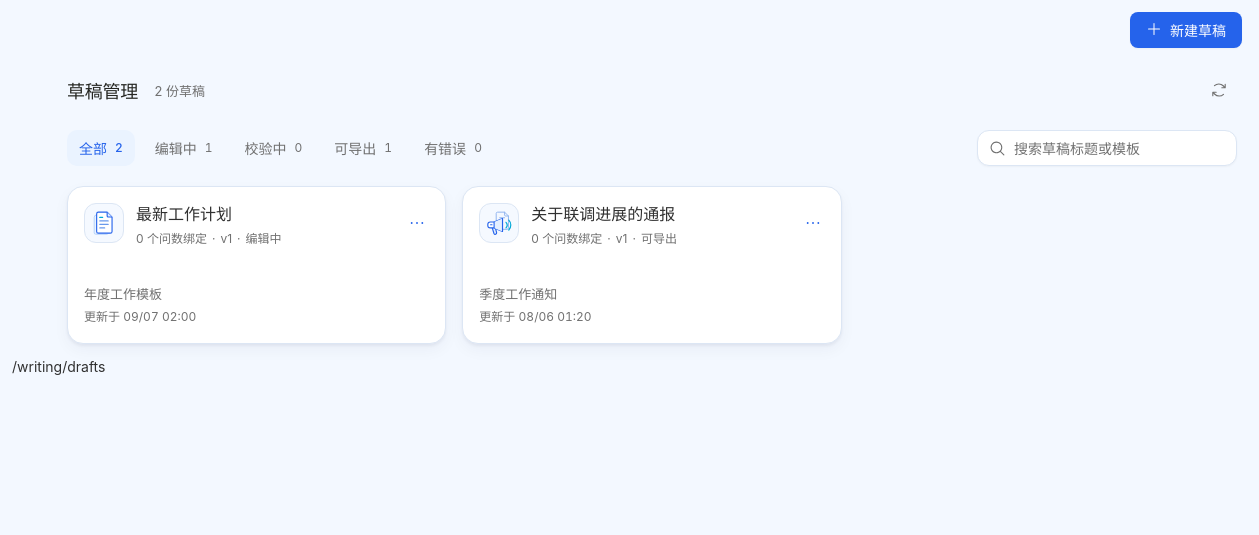
DraftLibraryView › orders drafts by actual update time, searches title or template, and opens editing
Expected: the list item "最新工作计划 0 个问数绑定 · v1 · 编辑中 年度工作模板 更新于 09/07 02:00" is shown, [67, 186, 446, 344]
Click the button "编辑中 1" at (184, 148), box [143, 130, 225, 166]
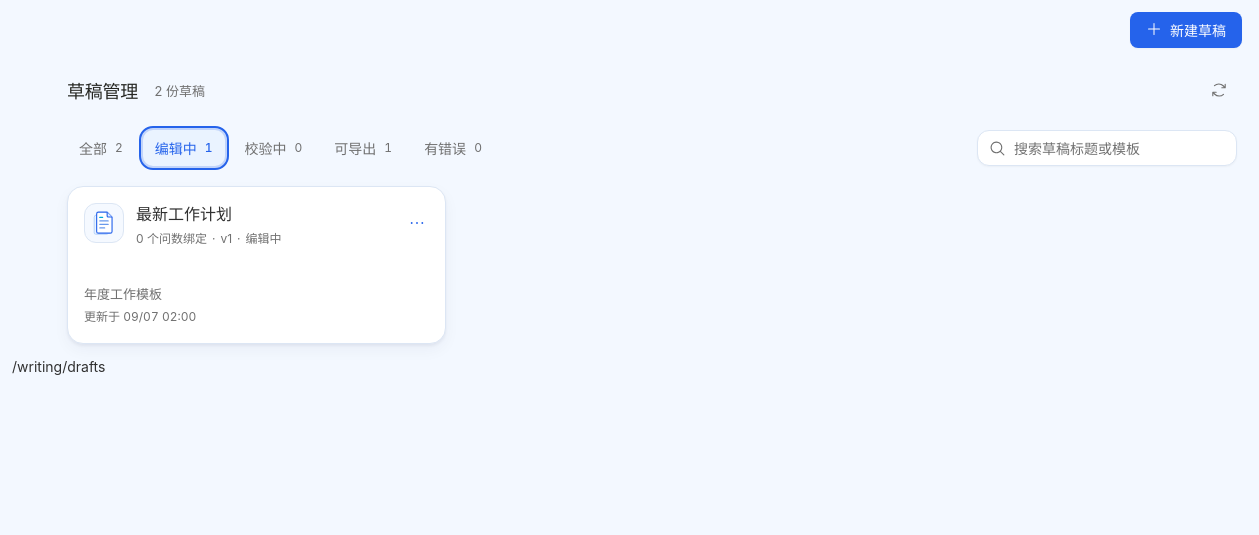
Expected: the number of list items is 1, [67, 186, 446, 344]
Type "missing" into the field labelled "搜索草稿标题" at (1112, 148), box [1014, 138, 1209, 158]
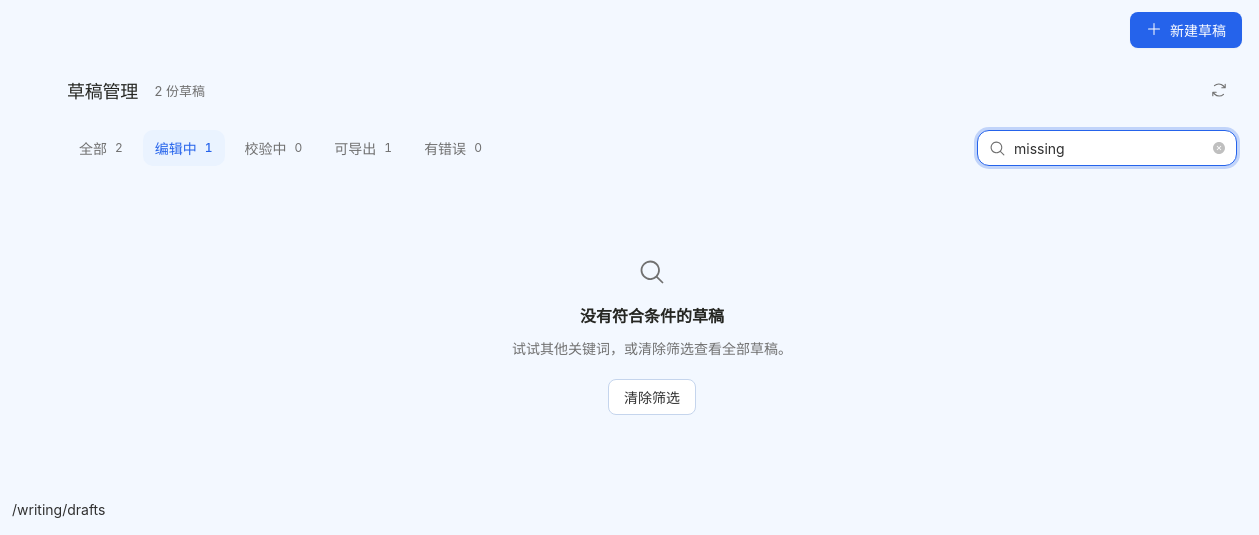
Expected: the heading "没有符合条件的草稿" is shown, [580, 304, 724, 328]
Click the button "清除筛选" at (652, 397), box [608, 379, 696, 415]
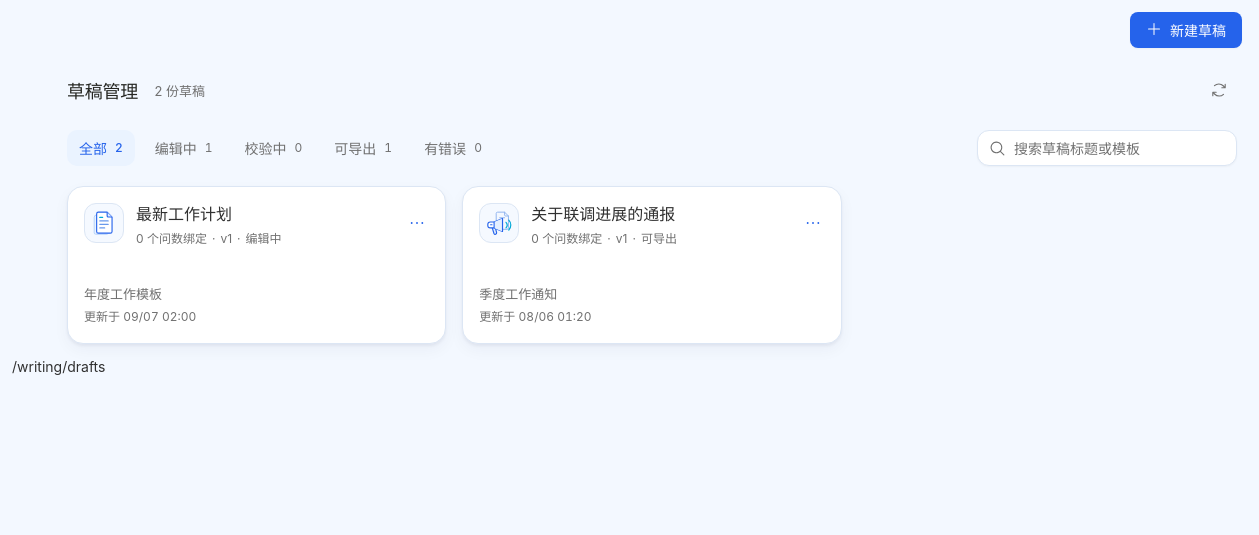
Expected: the field labelled "搜索草稿标题" is empty
Expected: the number of list items is 2, [67, 186, 446, 344]; [462, 186, 842, 344]
Type "年度工作模板" into the field labelled "搜索草稿标题" at (1112, 148), box [1014, 138, 1209, 158]
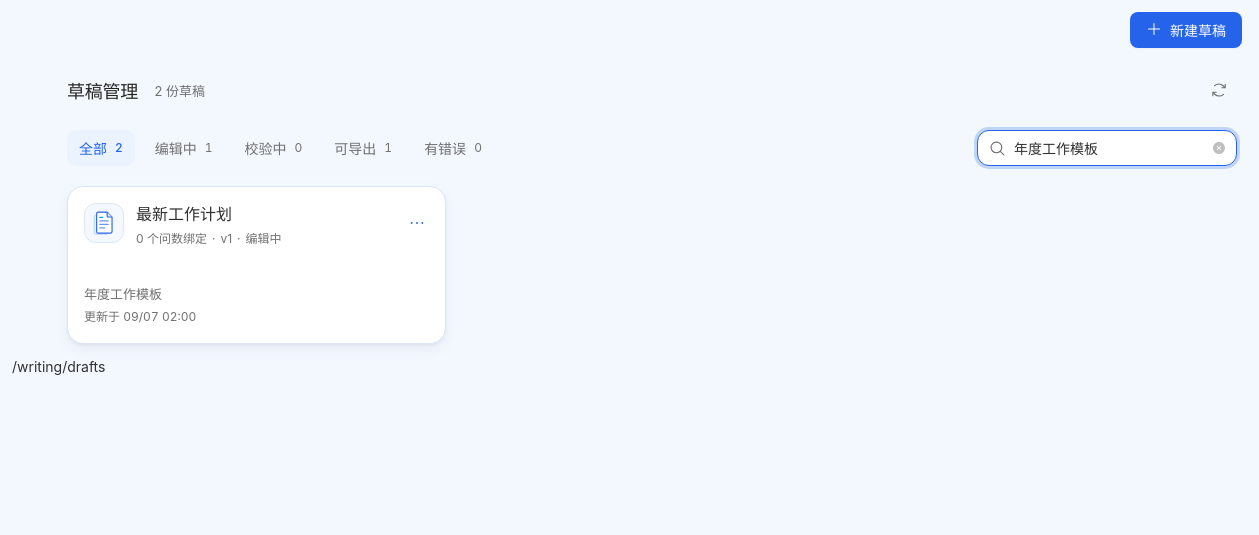
Click the button with aria-label "打开草稿 最新工作计划" at (104, 223), box [68, 187, 445, 343]
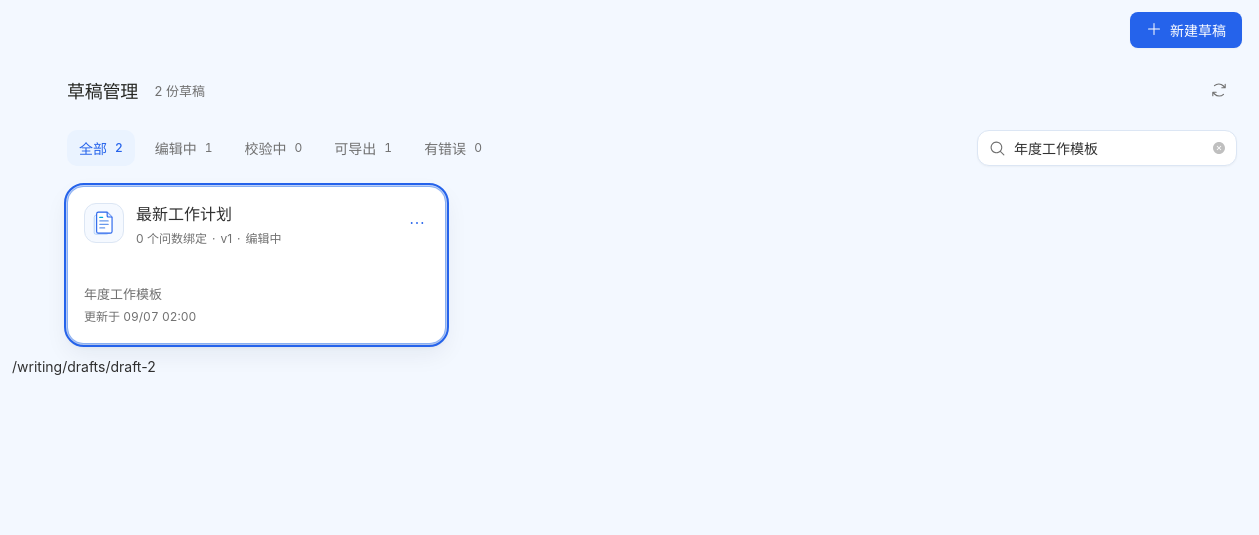
Expected: the text named "当前路径" reads "/writing/drafts/draft-2", [12, 358, 156, 375]
